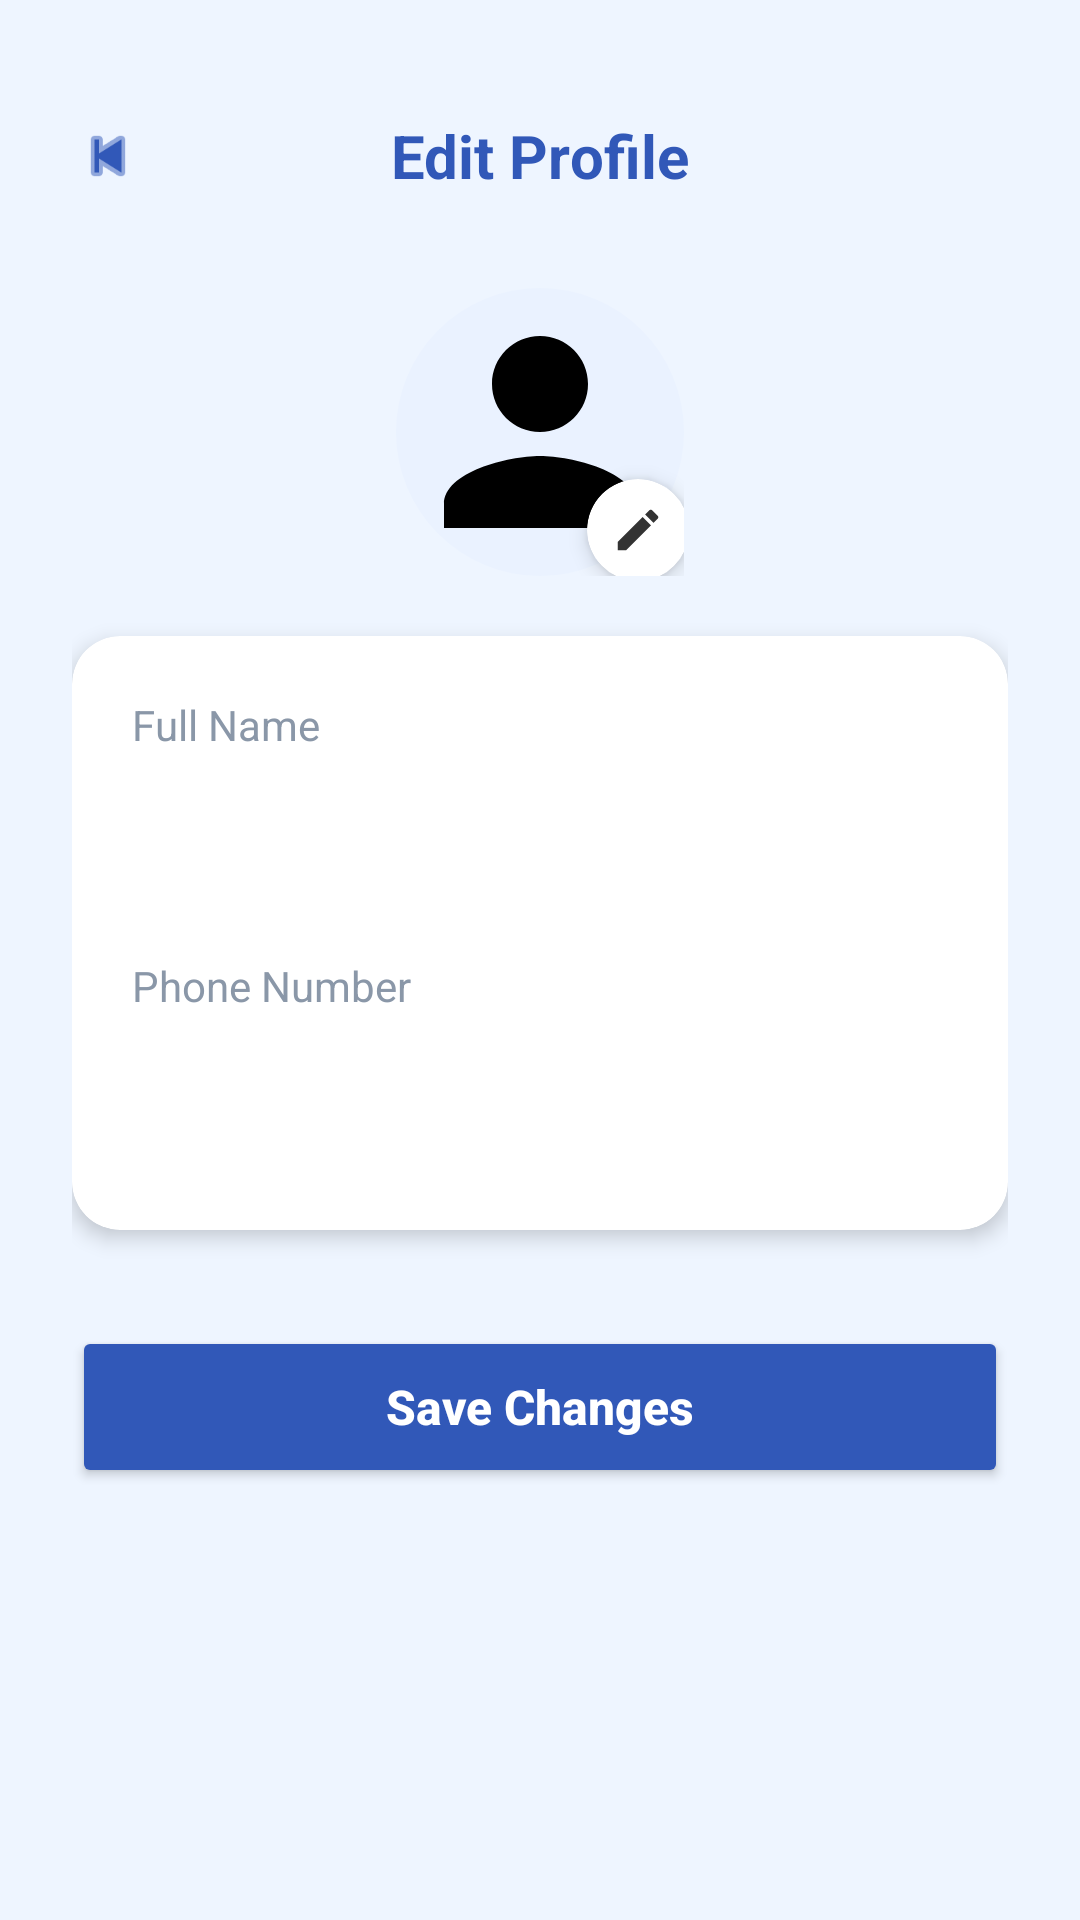

Icon bounding boxes for this 1080 x 1920 phone screenshot, format (x1,y1,x2,y2):
previous: (91,136,125,176)
